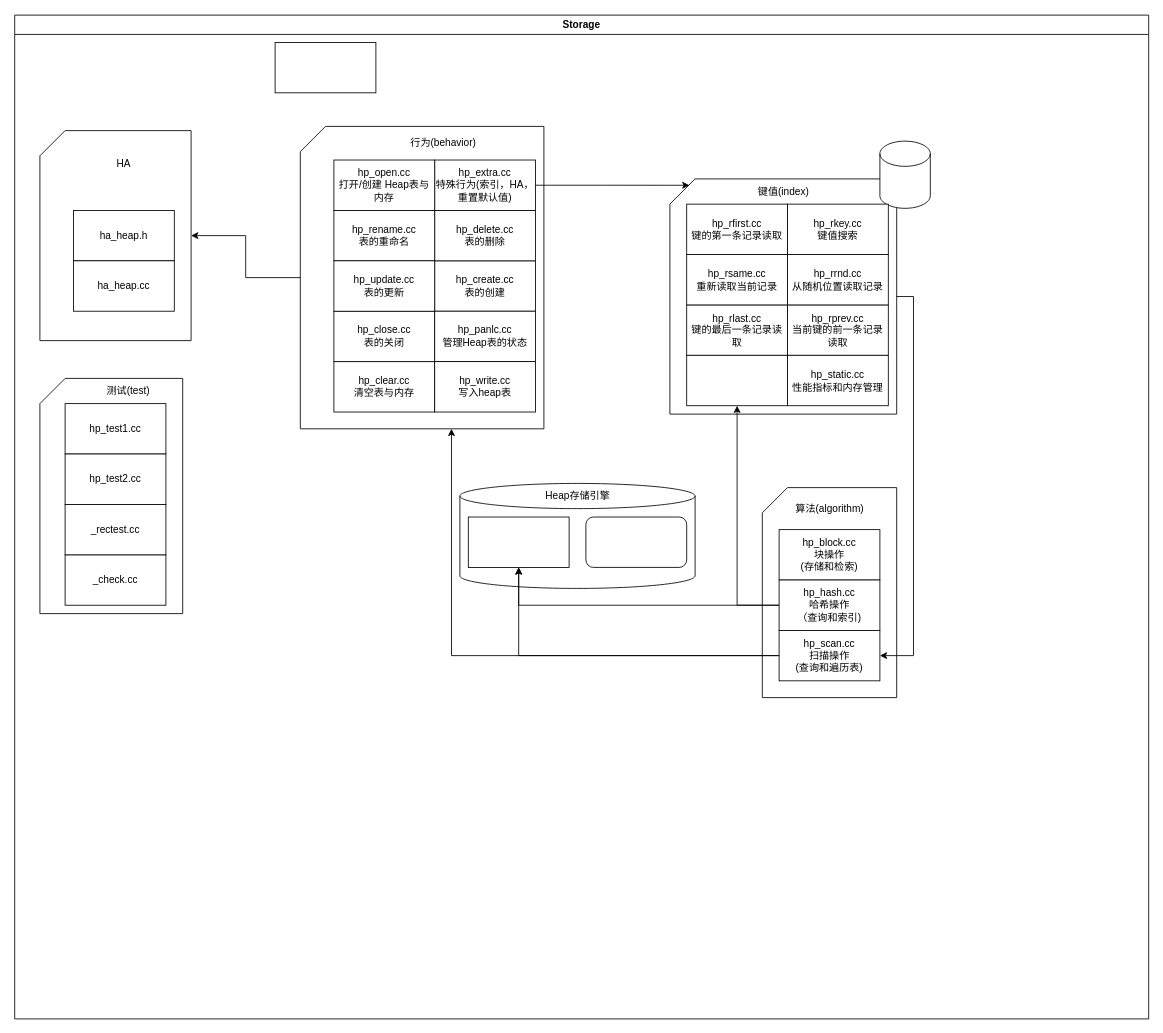
This 1163x1033 diagram has some shape labels left out. Each missing label, with the centre of its shape:
B+ Tree: pixel 904 174
heapdef.h 头文件: pixel 325 67
hp_info.cc: pixel 518 541
hp_rnext.cc 当前键的后一条记录读取: pixel 737 380
HP_SHARE结构体 (共享锁): pixel 636 541
